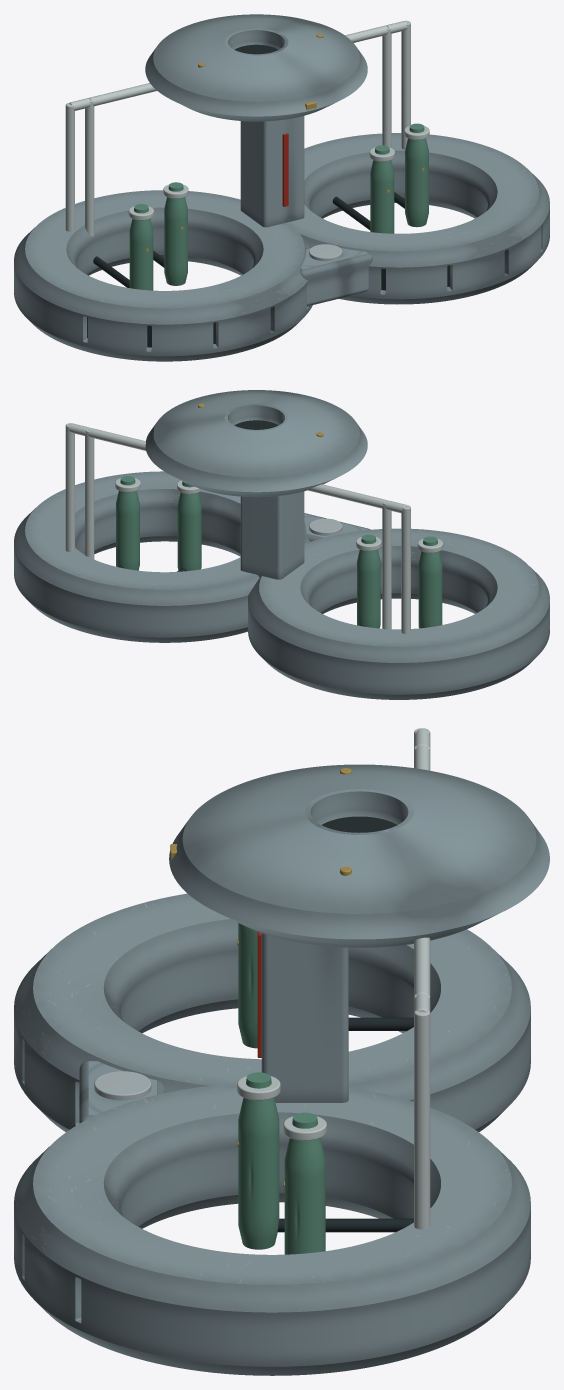
The picture shows the model from 3 angles, top to bottom: view 1: azimuth 30°, elevation 25°; view 2: azimuth 150°, elevation 25°; view 3: azimuth 270°, elevation 25°; orthographic projection. The views are drawn at different scales.
Parts seen in each view (by area): view 1: RI09 open annular platform 0, RI09 open annular platform 1, RI09 raised circular machinery hood, RI09 central raised support column, RI09 front cast joining bridge, RI09 internal green equipment post 1, RI09 internal green equipment post 3, RI09 internal green equipment post 2, RI09 internal green equipment post 0, RI09 rear portal upright, RI09 rear second portal upright, RI09 rear portal upright.001 (+4 smaller); view 2: RI09 open annular platform 0, RI09 open annular platform 1, RI09 raised circular machinery hood, RI09 central raised support column, RI09 internal green equipment post 3, RI09 internal green equipment post 0, RI09 internal green equipment post 1, RI09 internal green equipment post 2, RI09 rear second portal upright, RI09 rear second portal upright.001, RI09 rear portal upright.001, RI09 rear portal upright (+4 smaller); view 3: RI09 open annular platform 1, RI09 open annular platform 0, RI09 raised circular machinery hood, RI09 central raised support column, RI09 internal green equipment post 2, RI09 internal green equipment post 3, RI09 rear second portal upright.001, RI09 internal green equipment post 0, RI09 front cast joining bridge, RI09 front bridge circular inspection cover, RI09 equipment post 2 mounting runner, RI09 rear hood support arm.001 (+2 smaller).
Boxes of the visible parts, left/top/right/bottom form: RI09 open annular platform 0: left=14, top=190, right=312, bottom=361; RI09 open annular platform 1: left=281, top=133, right=549, bottom=304; RI09 raised circular machinery hood: left=145, top=14, right=367, bottom=121; RI09 central raised support column: left=240, top=116, right=304, bottom=227; RI09 front cast joining bridge: left=300, top=247, right=372, bottom=306; RI09 internal green equipment post 1: left=164, top=182, right=187, bottom=285; RI09 internal green equipment post 3: left=405, top=123, right=428, bottom=227; RI09 internal green equipment post 2: left=370, top=145, right=394, bottom=233; RI09 internal green equipment post 0: left=129, top=204, right=153, bottom=290; RI09 rear portal upright: left=85, top=98, right=94, bottom=236; RI09 rear second portal upright: left=65, top=103, right=74, bottom=231; RI09 rear portal upright.001: left=382, top=28, right=391, bottom=147; RI09 open annular platform 0: left=248, top=528, right=549, bottom=699; RI09 open annular platform 1: left=14, top=471, right=309, bottom=642; RI09 raised circular machinery hood: left=145, top=390, right=367, bottom=497; RI09 central raised support column: left=240, top=491, right=304, bottom=579; RI09 internal green equipment post 3: left=116, top=476, right=139, bottom=570; RI09 internal green equipment post 0: left=418, top=536, right=442, bottom=628; RI09 internal green equipment post 1: left=357, top=534, right=380, bottom=628; RI09 internal green equipment post 2: left=177, top=481, right=201, bottom=570; RI09 rear second portal upright: left=401, top=505, right=410, bottom=633; RI09 rear second portal upright.001: left=65, top=423, right=74, bottom=551; RI09 rear portal upright.001: left=85, top=430, right=94, bottom=559; RI09 rear portal upright: left=382, top=503, right=391, bottom=629; RI09 open annular platform 1: left=14, top=1084, right=530, bottom=1375; RI09 open annular platform 0: left=14, top=893, right=530, bottom=1131; RI09 raised circular machinery hood: left=169, top=764, right=549, bottom=947; RI09 central raised support column: left=261, top=933, right=348, bottom=1102; RI09 internal green equipment post 2: left=238, top=1072, right=279, bottom=1249; RI09 internal green equipment post 3: left=284, top=1112, right=325, bottom=1254; RI09 rear second portal upright.001: left=414, top=1010, right=430, bottom=1229; RI09 internal green equipment post 0: left=238, top=923, right=257, bottom=1048; RI09 front cast joining bridge: left=79, top=1060, right=165, bottom=1123; RI09 front bridge circular inspection cover: left=94, top=1071, right=151, bottom=1100; RI09 equipment post 2 mounting runner: left=277, top=1218, right=413, bottom=1232; RI09 rear hood support arm.001: left=414, top=937, right=430, bottom=996.
Size of the model in its own units: 3.6 by 1.47 by 1.97.
Materials: 8 (2 with a texture image).
